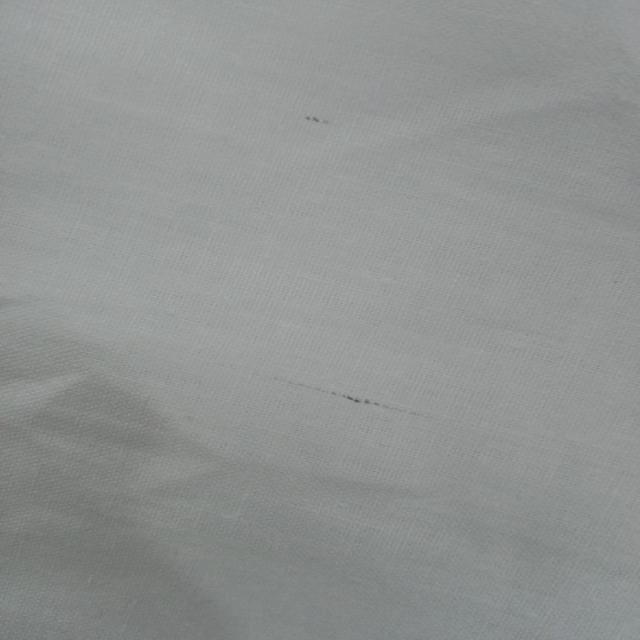contamination: (259, 366, 452, 435)
